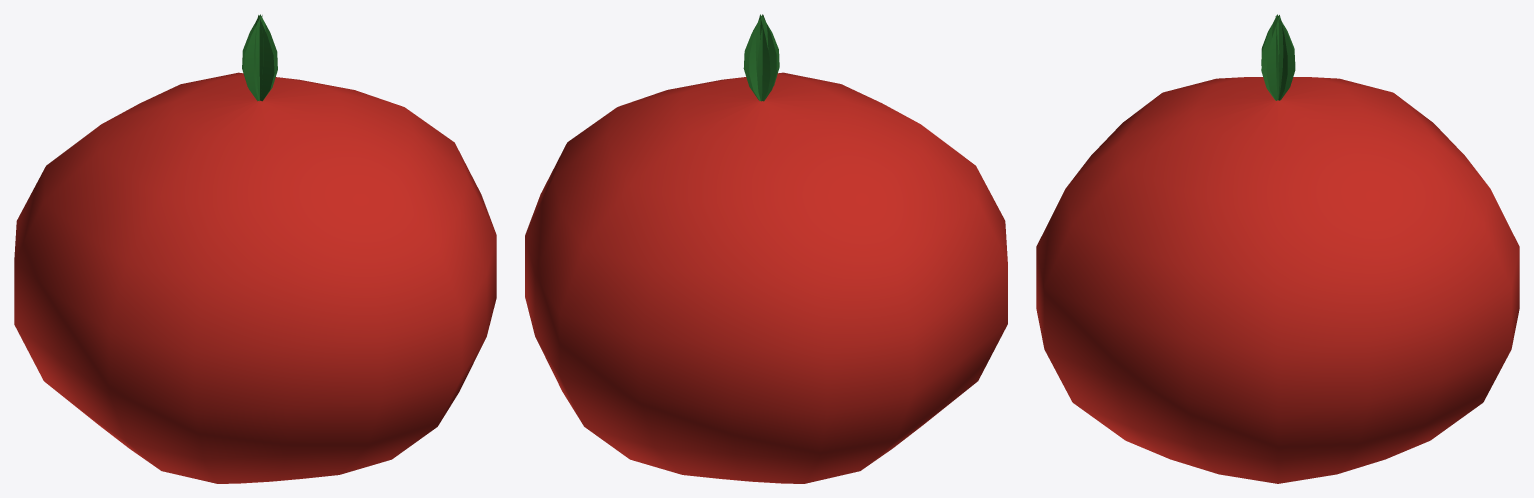
The model's file is fruit-tomato-plain.gltf.
3 views of the same model, side by side, from view 1: azimuth 30°, elevation 25°; view 2: azimuth 150°, elevation 25°; view 3: azimuth 270°, elevation 25° (orthographic).
Bounding box in the file's own units: 0.3939 × 0.3964 × 0.3939.
